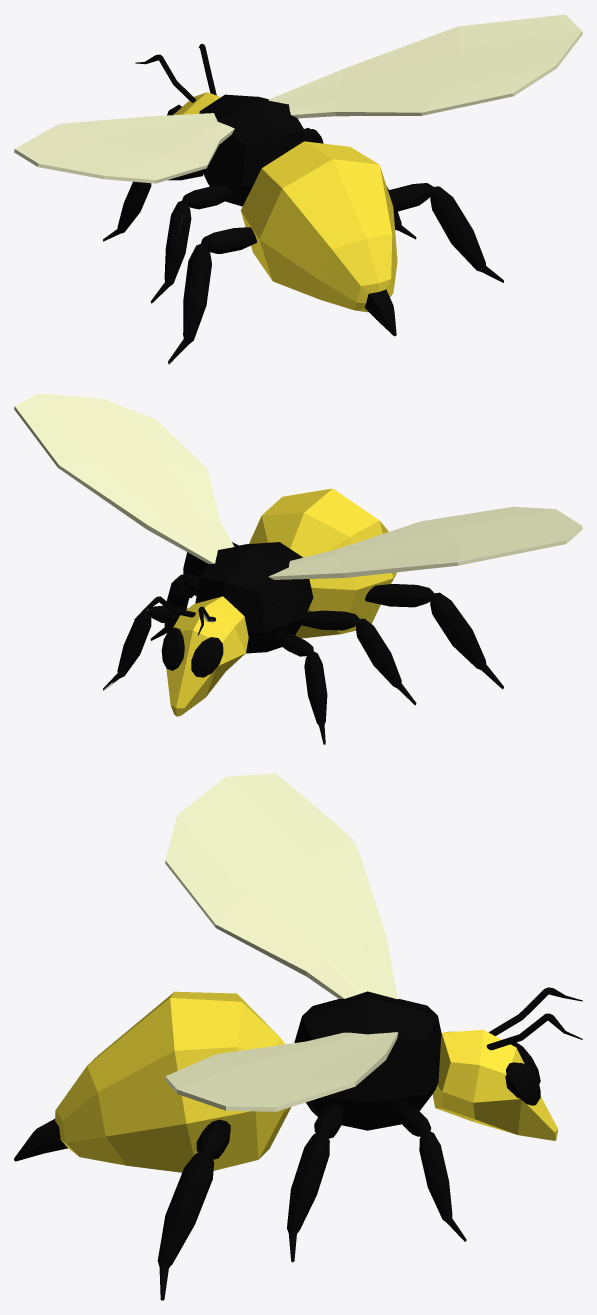
Rendered from Bee.fbx.
3 renders of one model, top to bottom at view 1: azimuth 30°, elevation 25°; view 2: azimuth 150°, elevation 25°; view 3: azimuth 270°, elevation 25°, orthographic. The views are drawn at different scales.
Parts seen in each view (by area): view 1: Cube.001; view 2: Cube.001; view 3: Cube.001.
Part boxes in pixels (left/top/right/bottom): Cube.001: left=14, top=14, right=582, bottom=364; Cube.001: left=14, top=393, right=582, bottom=744; Cube.001: left=14, top=773, right=582, bottom=1300.
Size of the model in its own units: 55.32 by 19.95 by 39.72.
1 material, 1 textured.
